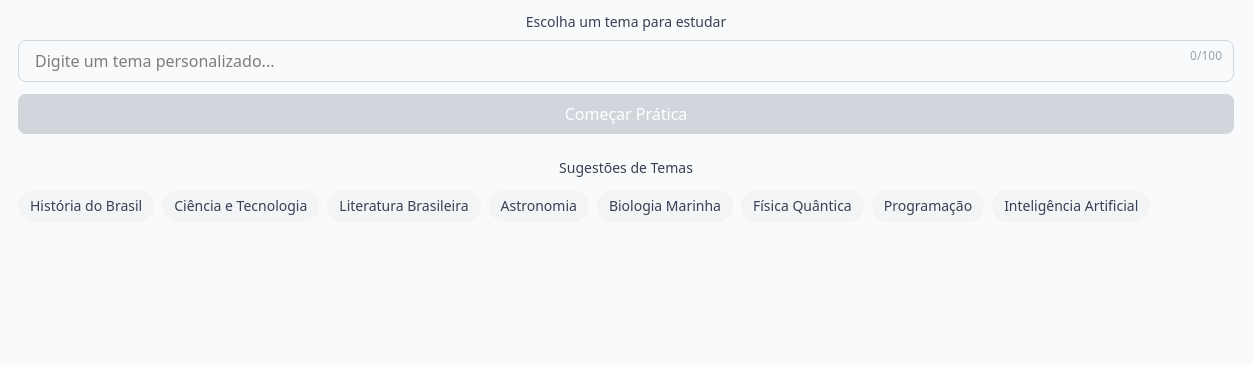
ThemeSelector › Local Storage Integration - Recent Themes › should display recent themes list
Add a theme
Type "Recent Theme" into the field with placeholder "Digite um tema personalizado..." at [626, 61], box [18,40,1234,82]
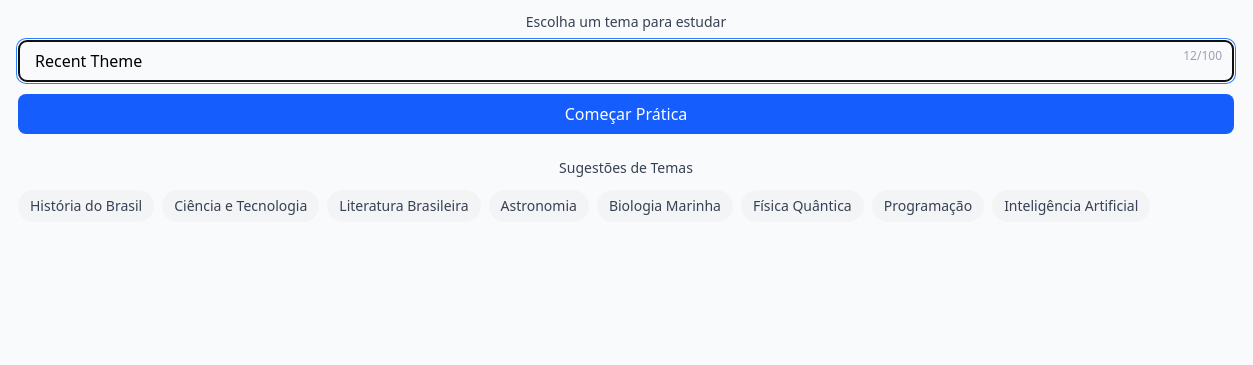
Click the button "Começar Prática" at [626, 114], box [18,94,1234,134]
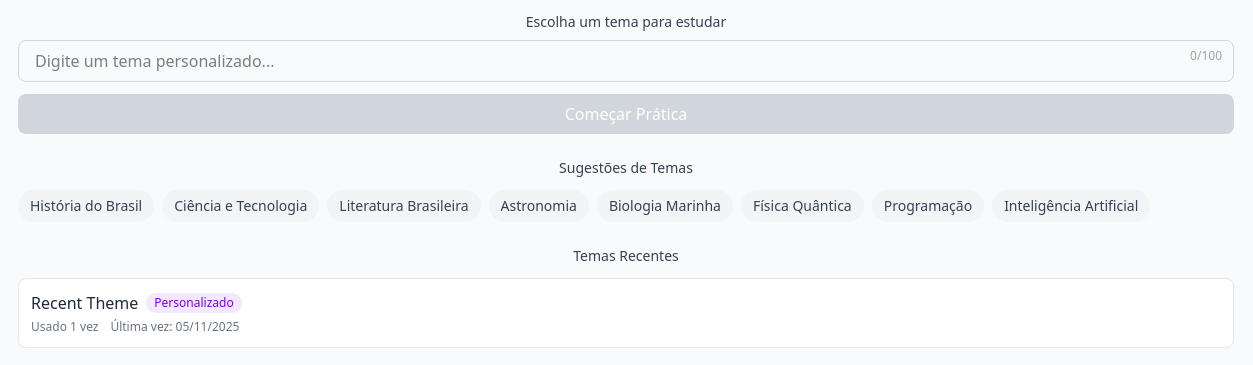
Expected: the heading "Temas Recentes" is shown, [573,246,679,265]
Expected: the text "Recent Theme" is shown, [31,291,138,315]
